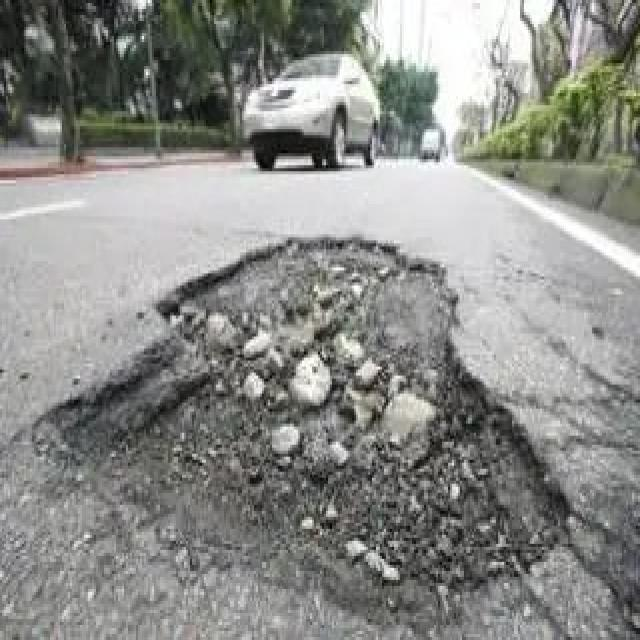Pothole: (42, 231, 572, 598)
